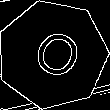O_SW: (22, 22, 83, 87)
